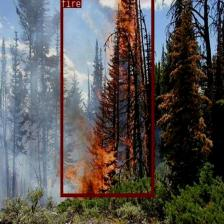fire: (60, 0, 153, 196)
